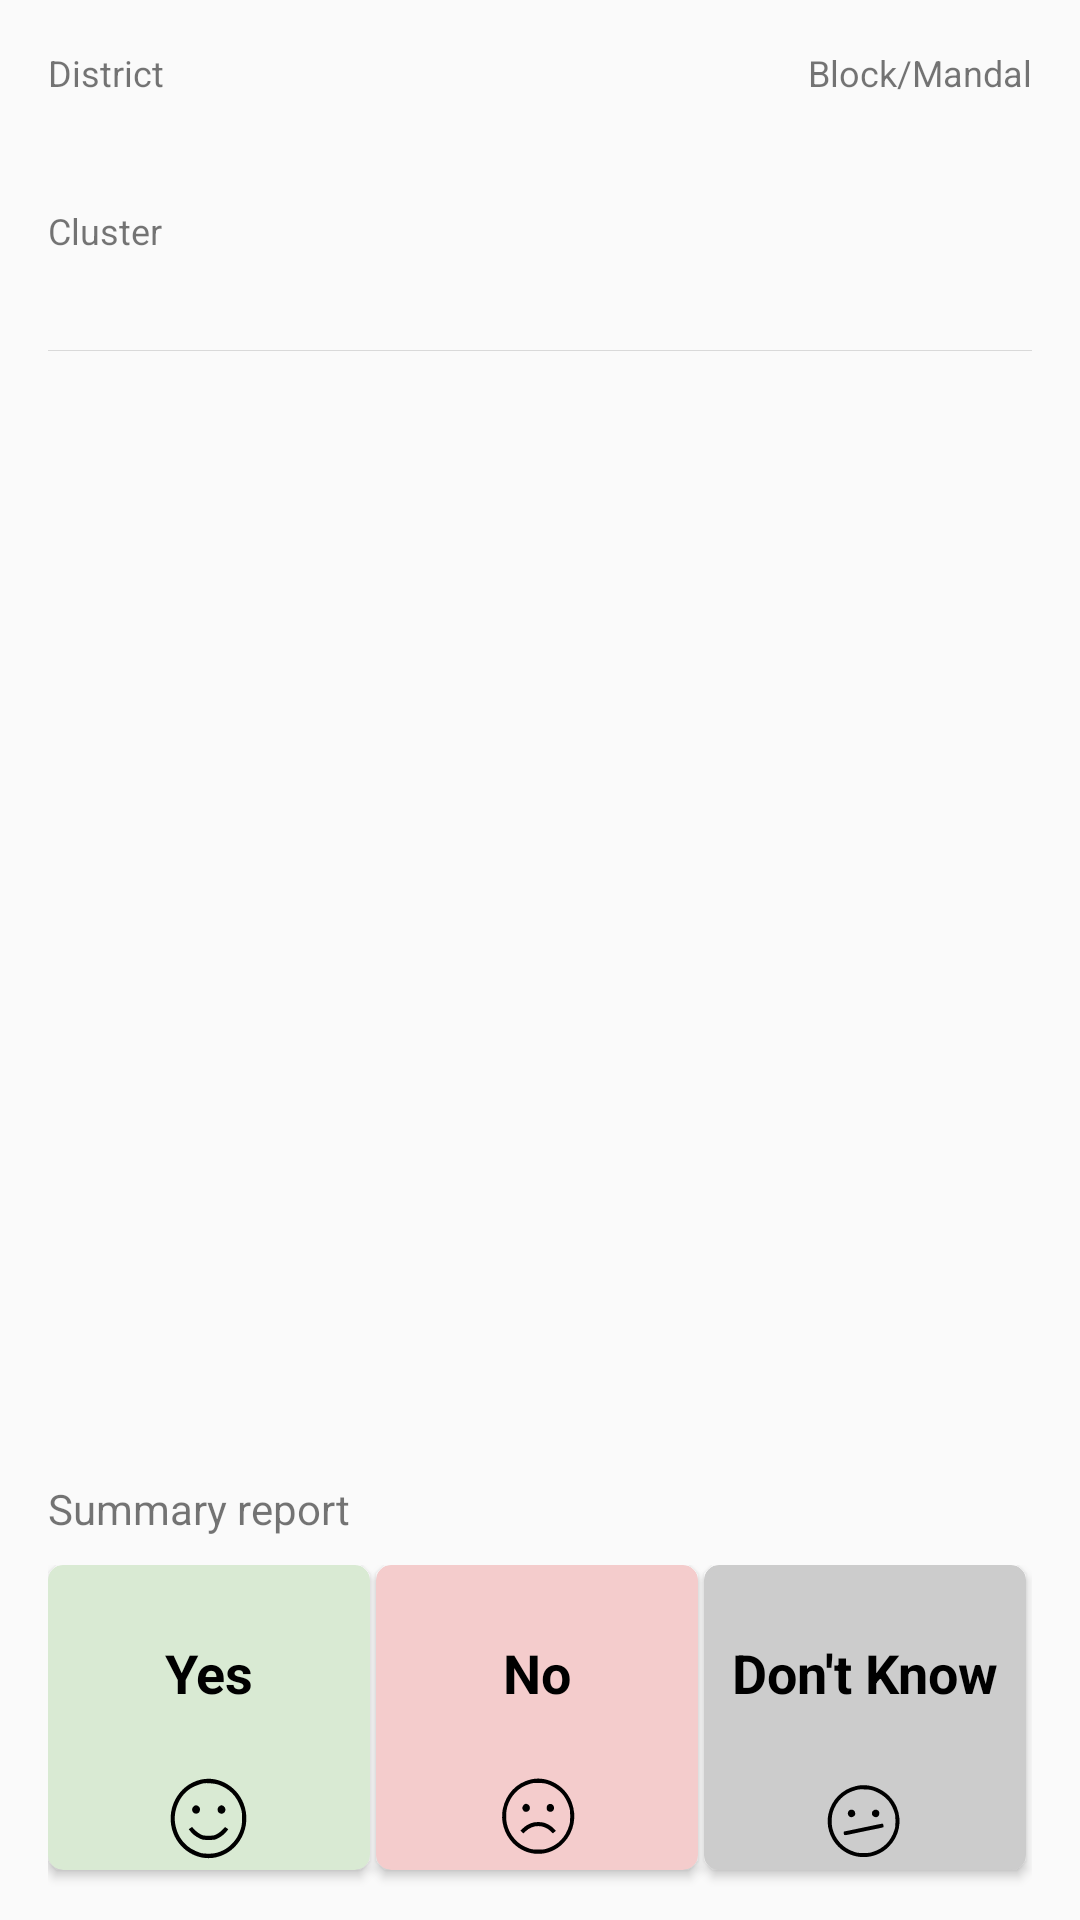

Where icons sit on this 1080w x 1920h app screen, as rect(x1, y1, x2, y2):
yes smiley: rect(170, 1778, 247, 1859)
